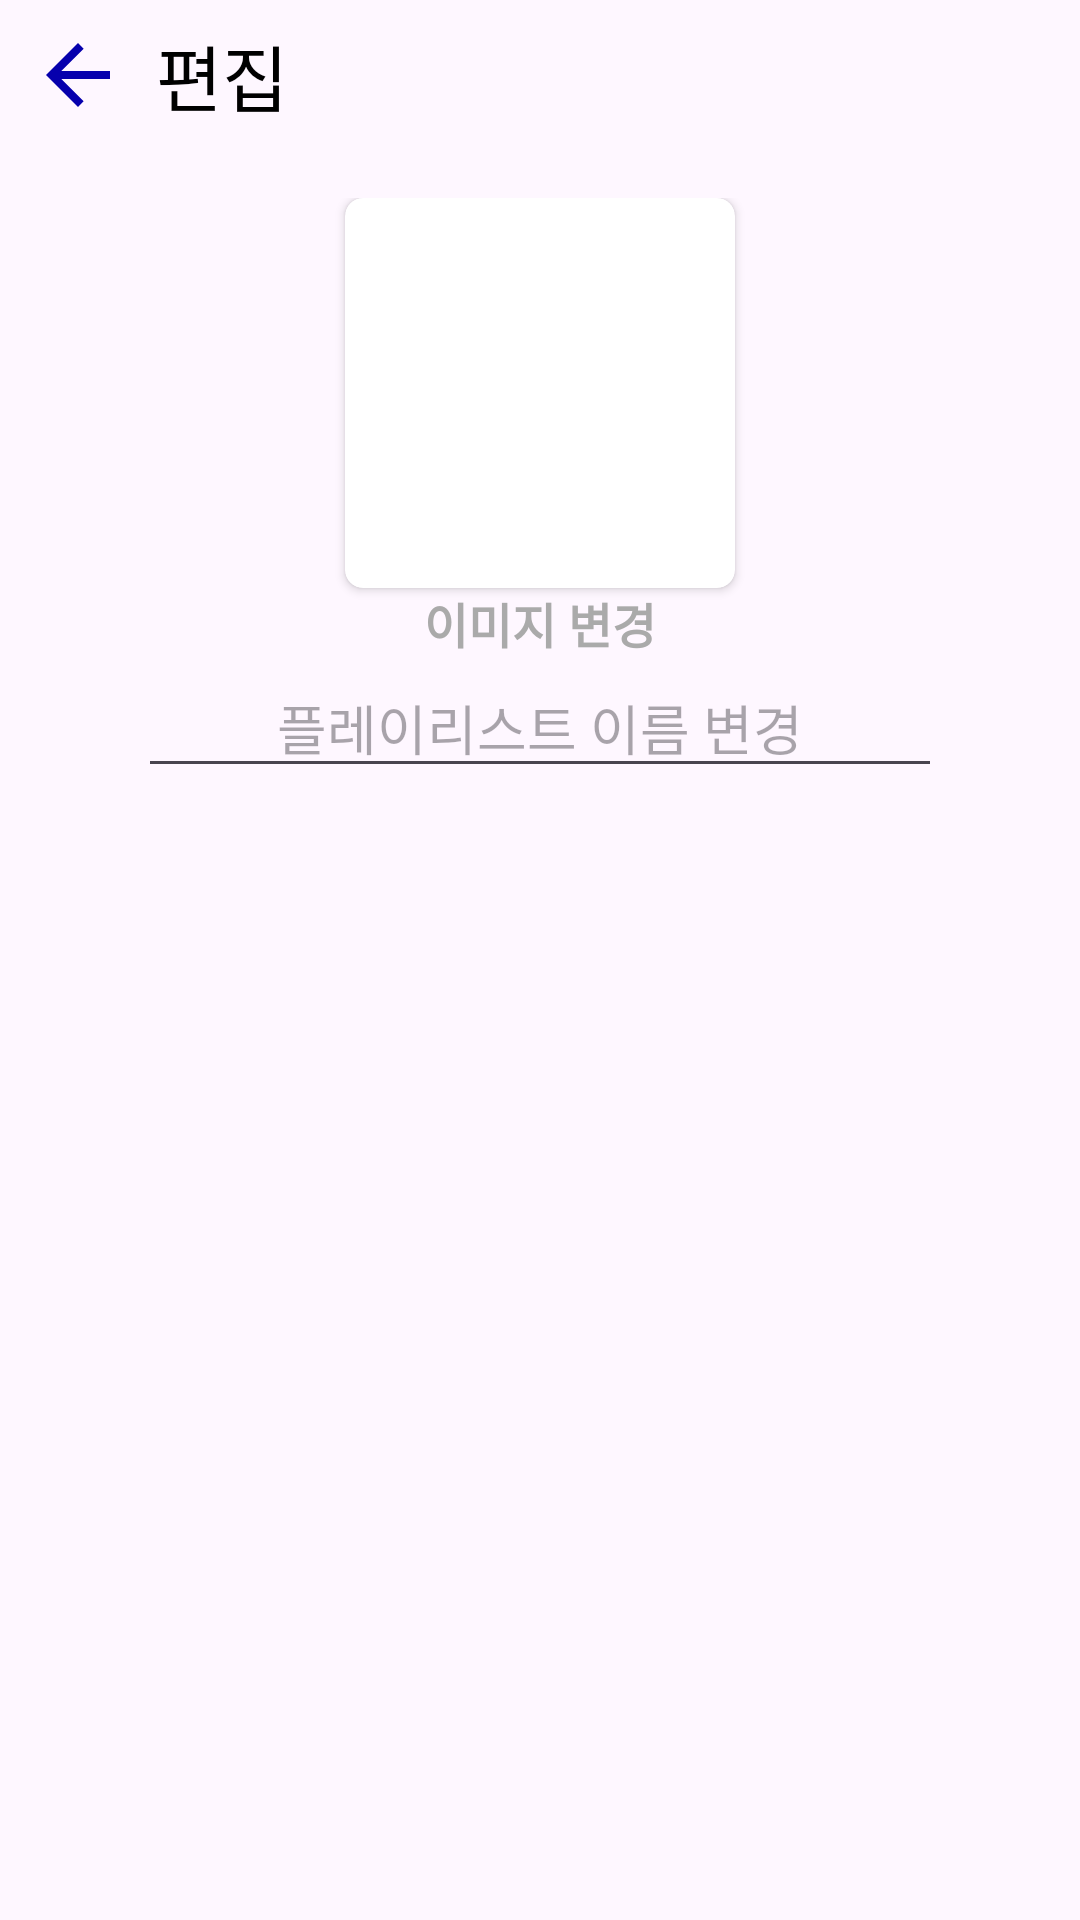

Where icons sit on this 1080px x 1920px app screen, as (x1, y1, x2, y2):
arrow back: (46, 43, 110, 107)
